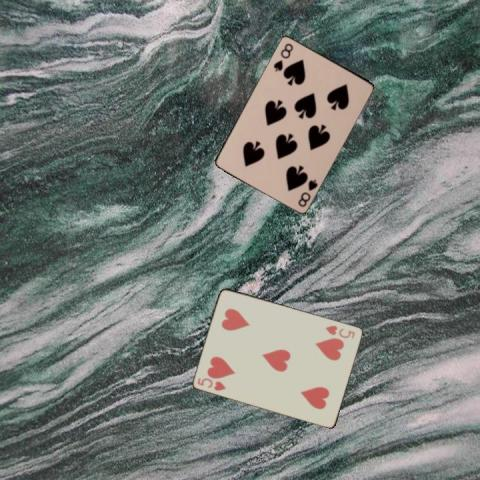5h: (322, 322, 357, 340), (195, 374, 227, 392)
8s: (270, 40, 295, 73), (294, 176, 318, 208)
